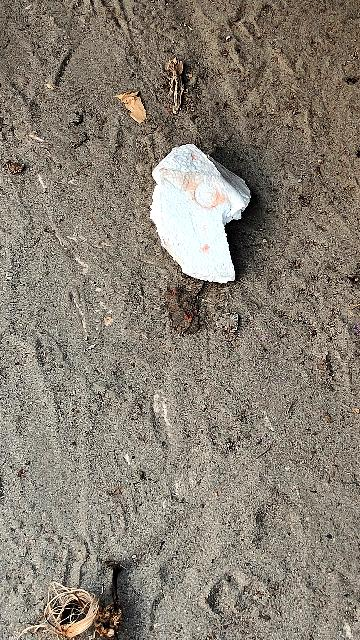cocksheet: (146, 146, 251, 295)
